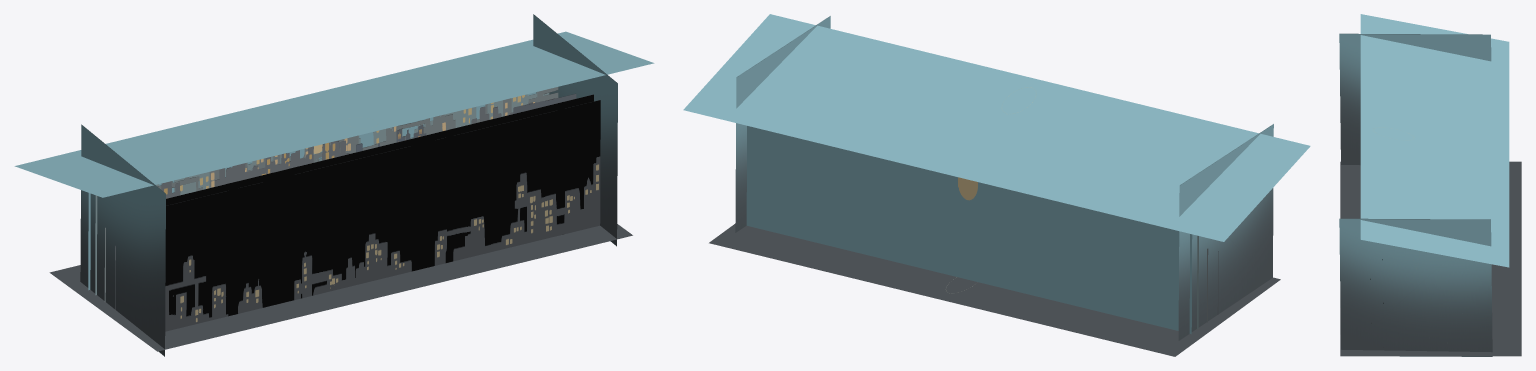
The model's file is cityscapeneutral prototype.fbx.
The picture shows the model from 3 angles, left to right: view 1: azimuth 30°, elevation 25°; view 2: azimuth 150°, elevation 25°; view 3: azimuth 270°, elevation 25°; orthographic projection. The views are drawn at different scales.
Visible parts, largest first — view 1: layer0, Plane.001, Plane.002, Plane, Plane.003, layer1, layer5, layer4, layer6, background, layer3; view 2: Plane.001, background, Plane, Plane.002, Plane.003; view 3: Plane.001, Plane.003, Plane, Plane.002.
Part boxes in pixels (box(x1,y1,x2,y2)): layer0: box(165, 100, 600, 331); Plane.001: box(14, 31, 654, 197); Plane.002: box(80, 124, 165, 356); Plane: box(49, 224, 632, 351); Plane.003: box(533, 14, 617, 246); layer1: box(166, 94, 593, 205); layer5: box(104, 87, 558, 301); layer4: box(115, 102, 532, 309); layer6: box(95, 92, 549, 295); background: box(88, 92, 536, 290); layer3: box(356, 93, 576, 152); Plane.001: box(683, 14, 1310, 241); background: box(746, 126, 1192, 334); Plane: box(709, 224, 1280, 356); Plane.002: box(1178, 124, 1273, 340); Plane.003: box(735, 16, 830, 232); Plane.001: box(1360, 14, 1509, 267); Plane.003: box(1339, 218, 1492, 356); Plane: box(1340, 161, 1521, 356); Plane.002: box(1339, 33, 1491, 165).
Size of the model in its own units: 704 by 202 by 240.
